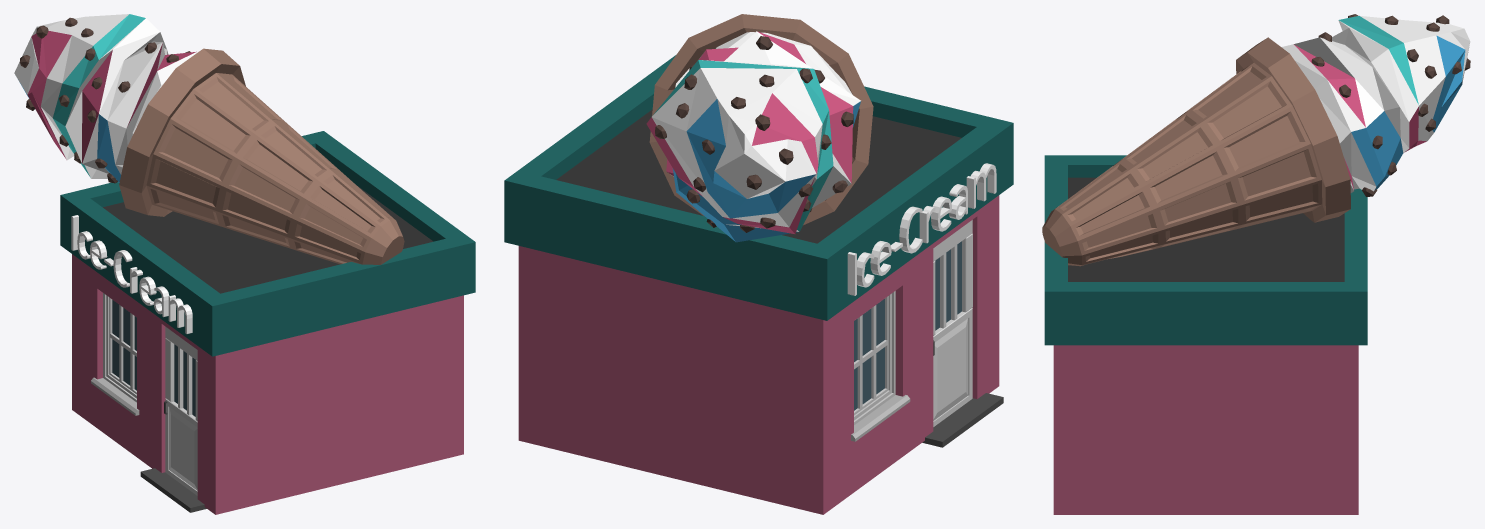
The model's file is bldg-shop-c.glb.
The picture shows the model from 3 angles, left to right: view 1: azimuth 30°, elevation 25°; view 2: azimuth 150°, elevation 25°; view 3: azimuth 270°, elevation 25°; orthographic projection. The views are drawn at different scales.
Visible parts, largest first — view 1: ice-cream; view 2: ice-cream; view 3: ice-cream.
Boxes of the visible parts, x1,y1,x2,y2 form: ice-cream: (14, 14, 475, 514); ice-cream: (504, 14, 1013, 514); ice-cream: (1042, 14, 1470, 514).
Size of the model in its own units: 4.43 by 5.63 by 5.61.
Materials: 1 (1 with a texture image).
